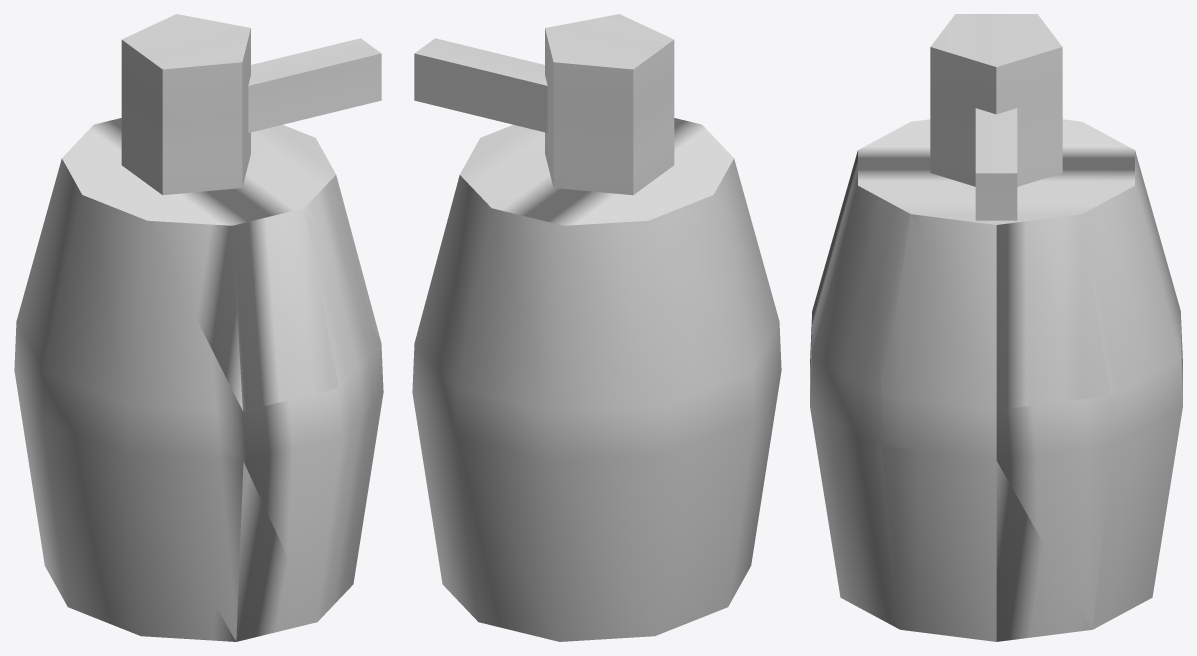
File: molotov.obj
The picture shows the model from 3 angles, left to right: view 1: azimuth 30°, elevation 25°; view 2: azimuth 150°, elevation 25°; view 3: azimuth 270°, elevation 25°; orthographic projection.
Parts seen in each view (by area): view 1: part_000_gun_wood, part_016_warning, part_022_gun_light; view 2: part_000_gun_wood, part_016_warning, part_022_gun_light; view 3: part_000_gun_wood, part_016_warning, part_022_gun_light.
Part boxes in pixels (x1=…): part_000_gun_wood: x1=14, y1=118, x2=383, y2=641; part_016_warning: x1=121, y1=14, x2=250, y2=195; part_022_gun_light: x1=248, y1=38, x2=381, y2=132; part_000_gun_wood: x1=412, y1=118, x2=781, y2=641; part_016_warning: x1=545, y1=14, x2=674, y2=195; part_022_gun_light: x1=414, y1=38, x2=547, y2=132; part_000_gun_wood: x1=810, y1=119, x2=1182, y2=641; part_016_warning: x1=930, y1=14, x2=1062, y2=186; part_022_gun_light: x1=975, y1=108, x2=1017, y2=220.
Bounding box in the file's own units: 0.1096 × 0.17 × 0.1072.
